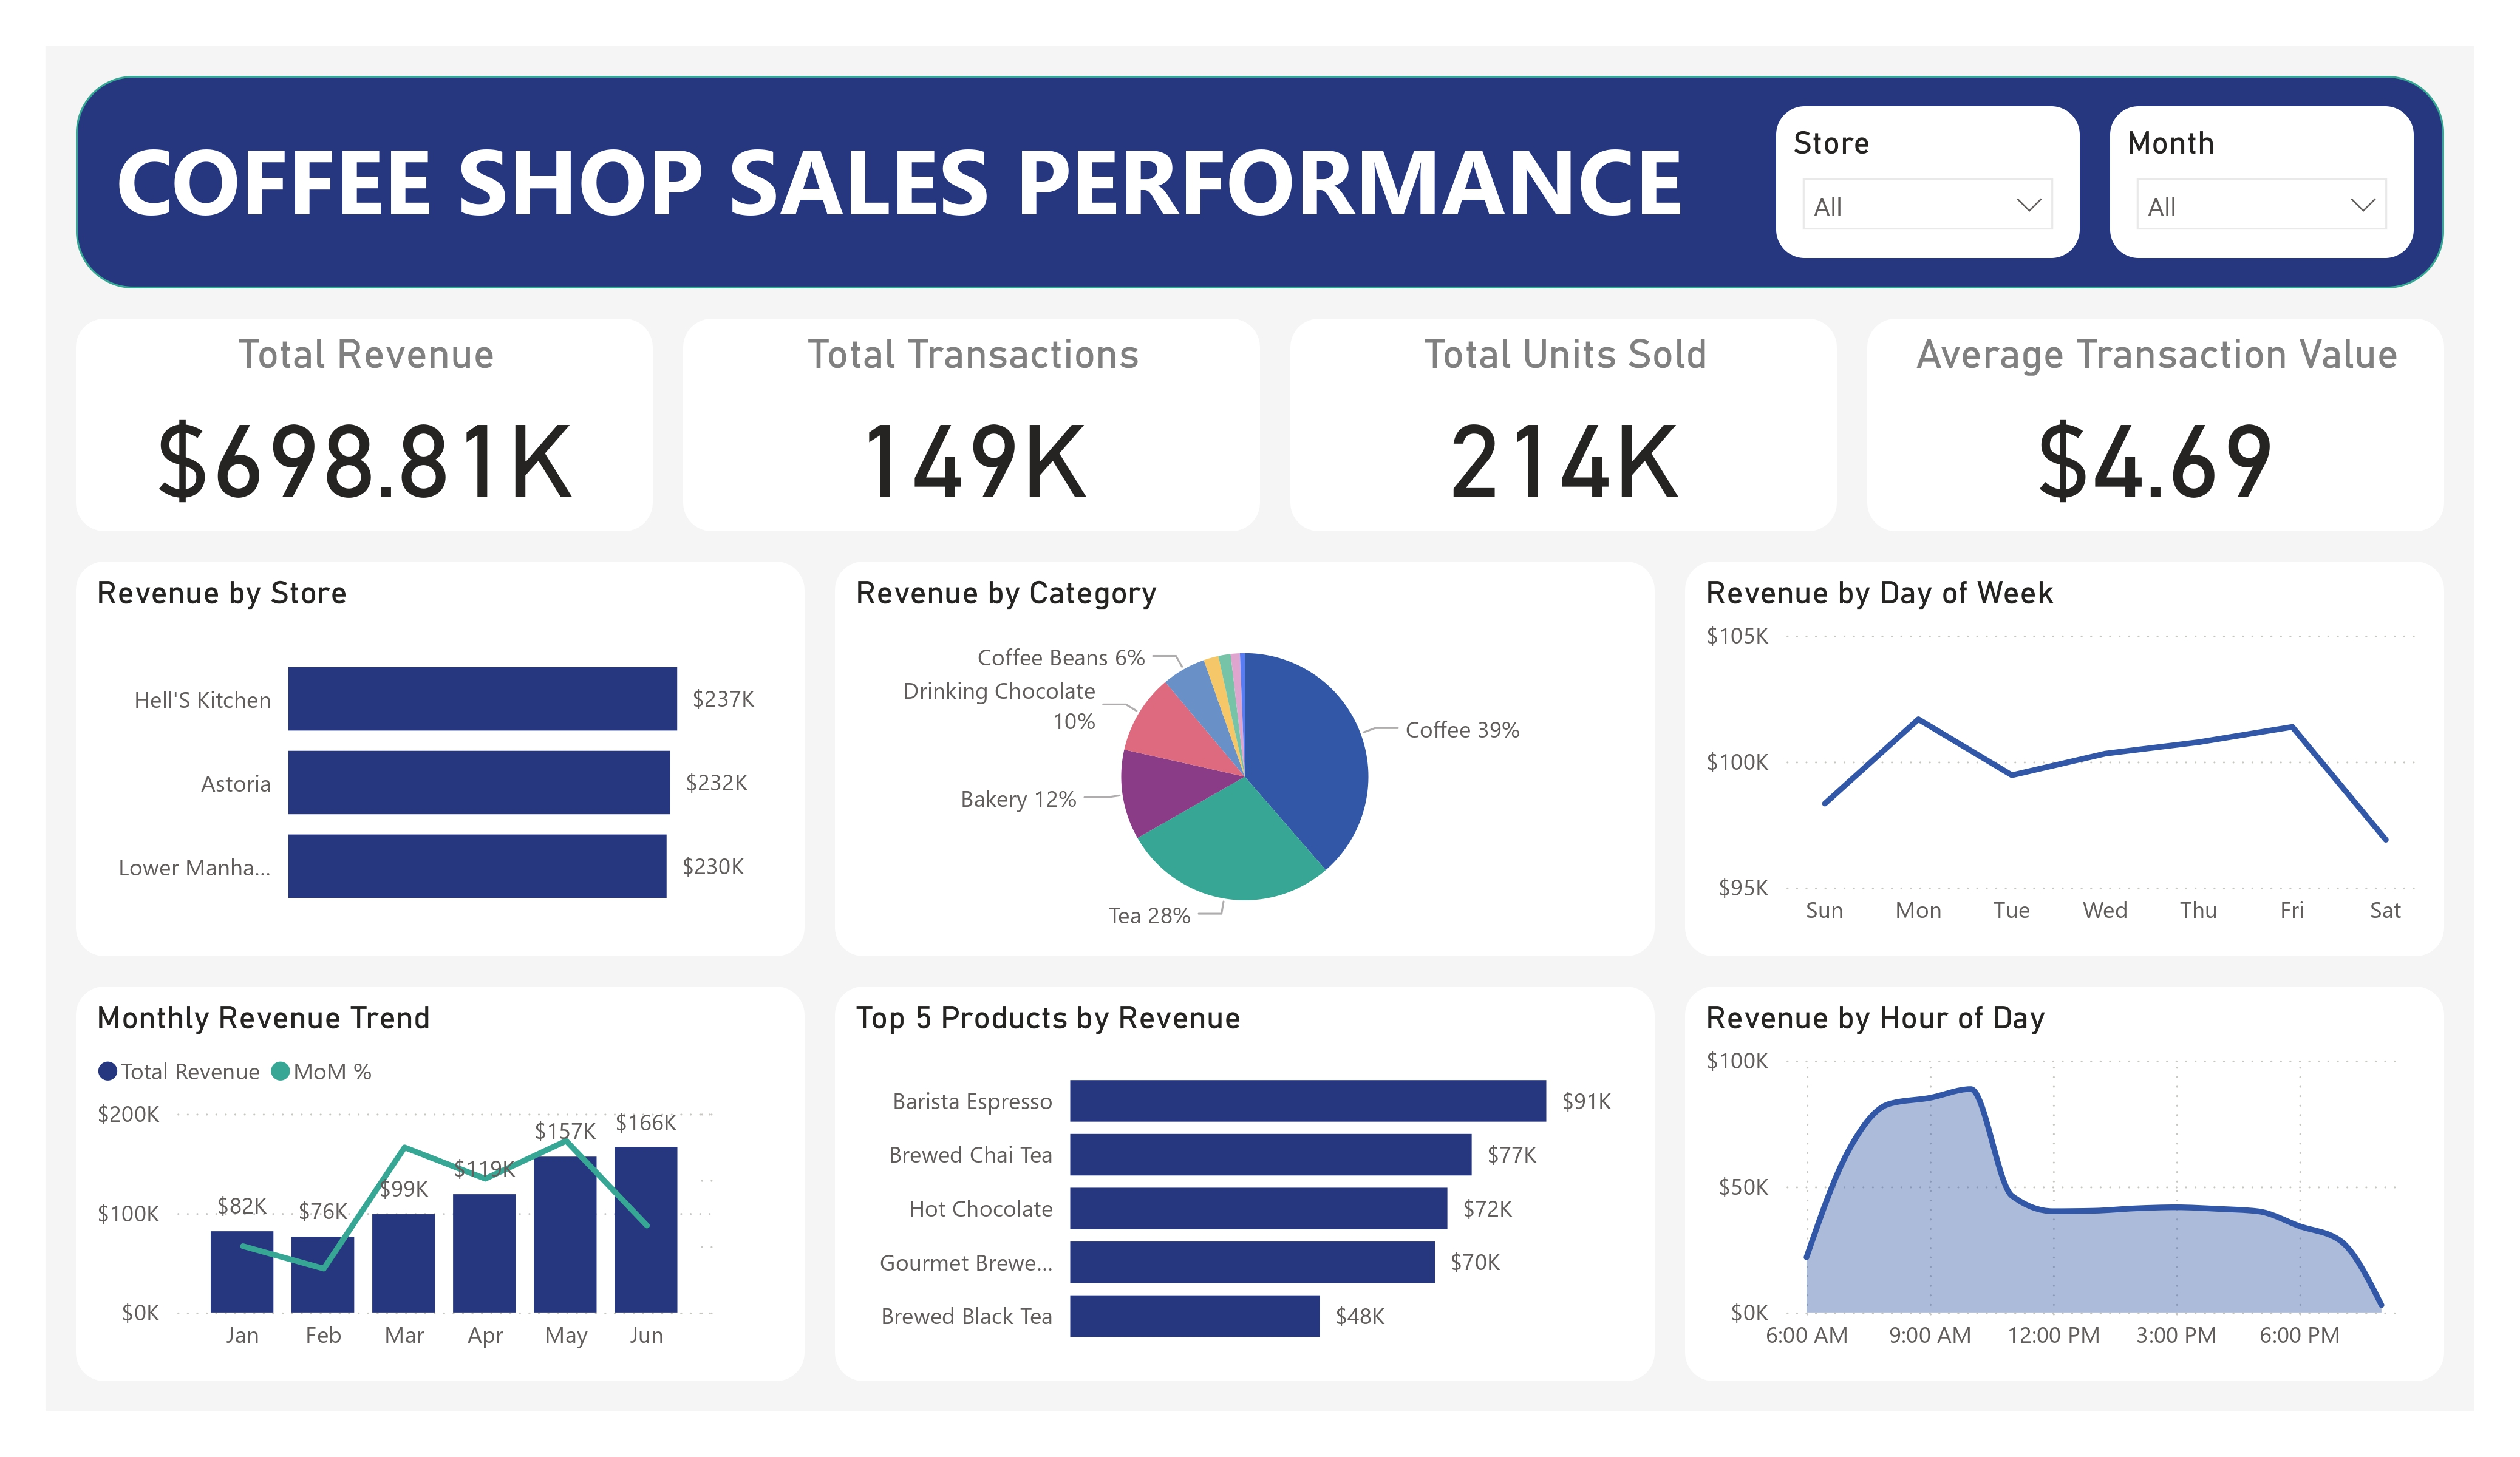

What the dashboard file says about the page in this screenshot:
{"tool":"powerbi","page":{"name":"Page 1","canvas":[1280,720],"ordinal":0},"visuals":[{"type":"textbox","box":[16,16,1248,112],"z":0},{"type":"card","title":"Total Revenue","fields":{"Values":["Transactions.Total Revenue"]},"box":[16,144,304,112],"z":1000},{"type":"card","title":"Total Transactions","fields":{"Values":["Transactions.Total Transactions"]},"box":[336,144,304,112],"z":2000},{"type":"card","title":"Total Units Sold","fields":{"Values":["Transactions.Total Units Sold"]},"box":[656,144,288,112],"z":3000},{"type":"lineClusteredColumnComboChart","title":"Monthly Revenue Trend","fields":{"Category":["DateTable.Month"],"Y":["Transactions.Total Revenue"],"Y2":["Transactions.MoM %"]},"box":[16,496,384,208],"z":4000},{"type":"barChart","title":"Revenue by Store","fields":{"Category":["Transactions.store_location"],"Y":["Transactions.Total Revenue"]},"box":[16,272,384,208],"z":5000},{"type":"pieChart","title":"Revenue by Category","fields":{"Category":["Transactions.product_category"],"Y":["Transactions.Total Revenue"]},"box":[416,272,432,208],"z":6000},{"type":"lineChart","title":"Revenue by Day of Week","fields":{"Y":["Transactions.Total Revenue"],"Category":["Transactions.Day"]},"box":[864,272,400,208],"z":7000},{"type":"areaChart","title":"Revenue by Hour of Day","fields":{"Category":["Transactions.Hour"],"Y":["Transactions.Total Revenue"]},"box":[864,496,400,208],"z":8000},{"type":"barChart","title":"Top 5 Products by Revenue","fields":{"Category":["Transactions.product_type","Transactions.product_detail.1"],"Y":["Transactions.Total Revenue"]},"box":[416,496,432,208],"z":9000},{"type":"card","title":"Average Transaction Value","fields":{"Values":["Transactions.AvgTransactionValue"]},"box":[960,144,304,112],"z":10000},{"type":"slicer","title":"Store","fields":{"Values":["Transactions.store_location"]},"box":[912,32,160,80],"z":11000},{"type":"slicer","title":"Month","fields":{"Values":["Transactions.Month"]},"box":[1088,32,160,80],"z":12000}]}

Visuals, with their boxes in screenshot pixels (x1, y1, x2, y2):
textbox: (76, 76, 2444, 288)
"Total Revenue" card: (76, 319, 653, 531)
"Total Transactions" card: (683, 319, 1260, 531)
"Total Units Sold" card: (1290, 319, 1837, 531)
"Monthly Revenue Trend" lineClusteredColumnComboChart: (76, 987, 805, 1381)
"Revenue by Store" barChart: (76, 562, 805, 956)
"Revenue by Category" pieChart: (835, 562, 1655, 956)
"Revenue by Day of Week" lineChart: (1685, 562, 2444, 956)
"Revenue by Hour of Day" areaChart: (1685, 987, 2444, 1381)
"Top 5 Products by Revenue" barChart: (835, 987, 1655, 1381)
"Average Transaction Value" card: (1867, 319, 2444, 531)
"Store" slicer: (1776, 106, 2080, 258)
"Month" slicer: (2110, 106, 2414, 258)
